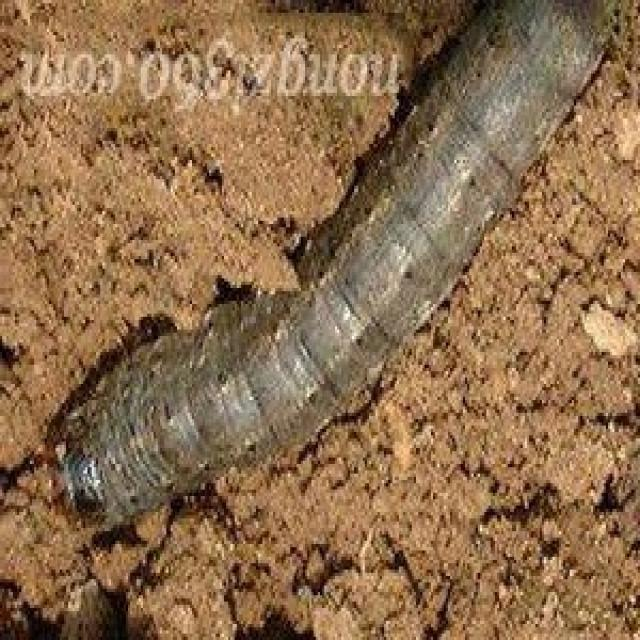black cutworm: (35, 1, 594, 542)
